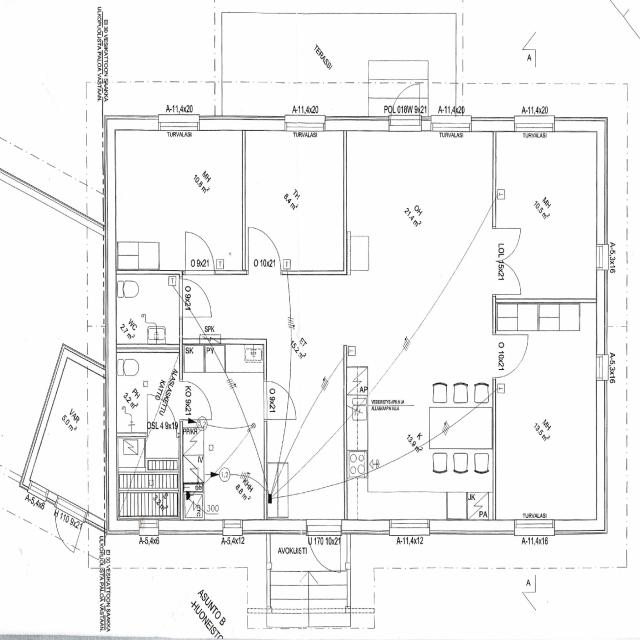door: (45, 496, 86, 558), (308, 520, 340, 577), (390, 76, 420, 131), (248, 227, 281, 275), (493, 335, 528, 378), (147, 394, 177, 437), (264, 380, 295, 420), (180, 279, 212, 317), (180, 382, 212, 419), (186, 232, 214, 274), (493, 261, 521, 295), (493, 228, 521, 261)
